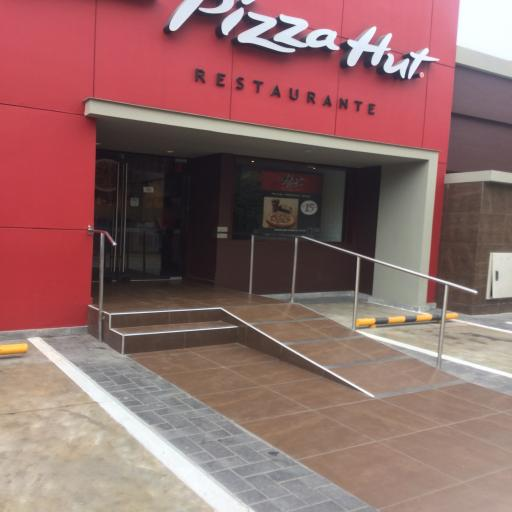ramp: (218, 304, 468, 400)
stairs: (88, 306, 237, 354)
